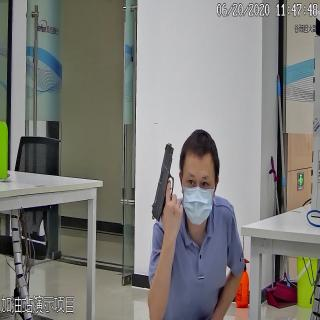gun: (150, 143, 182, 225)
